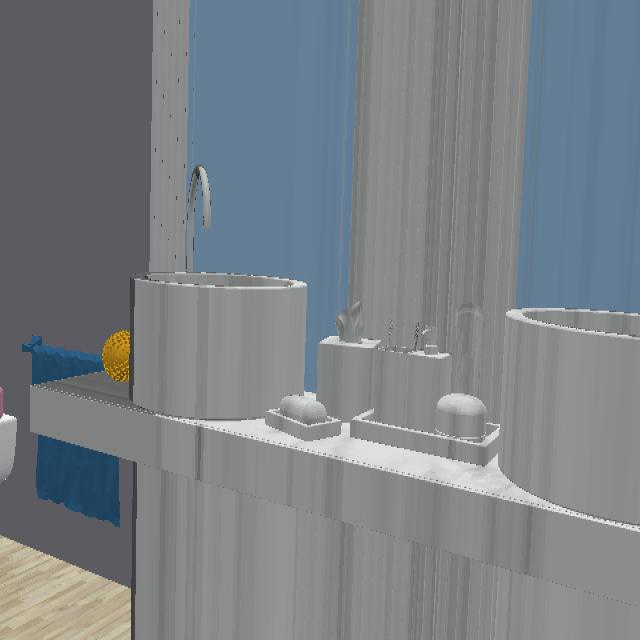washbasin: (131, 167, 308, 423), (501, 308, 640, 527)
